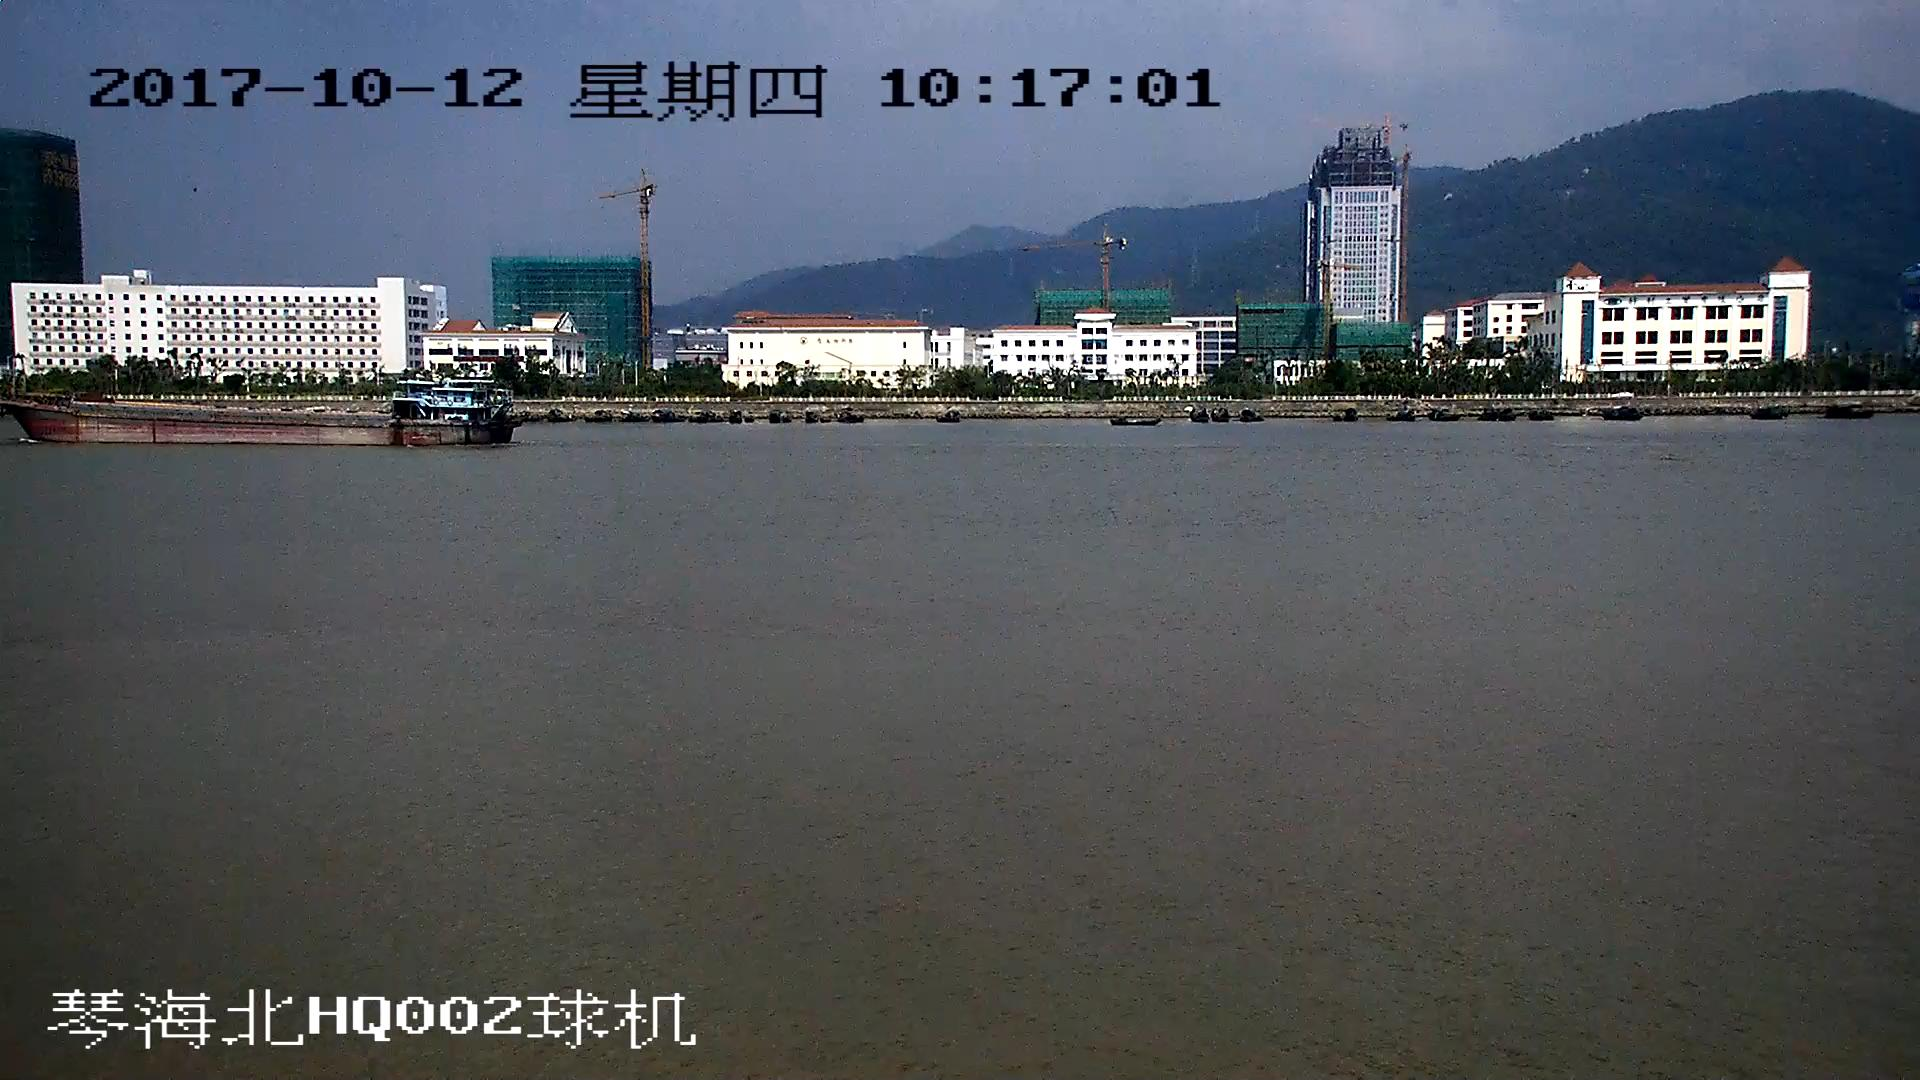bulk cargo carrier: (1, 382, 520, 446)
